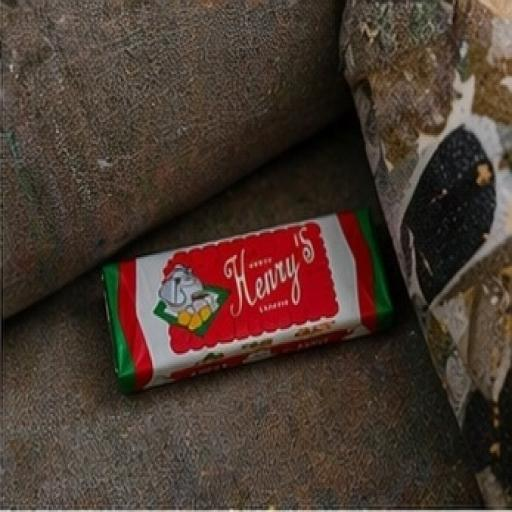henry-s: (75, 101, 448, 416)
